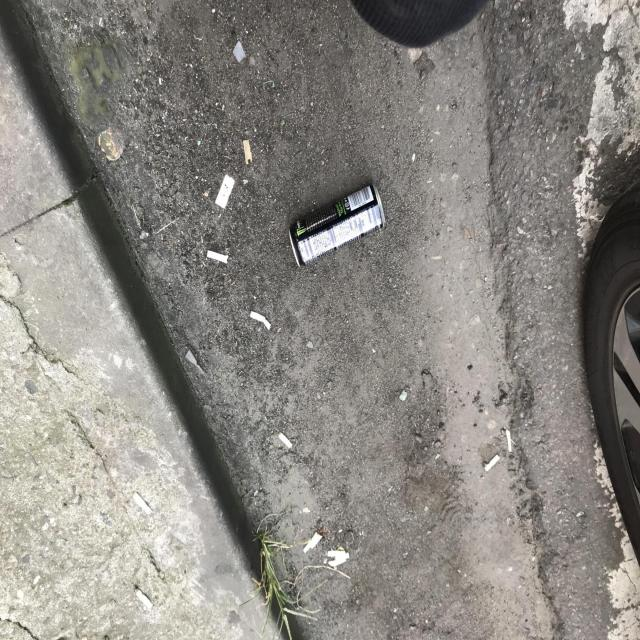can: (289, 184, 385, 266)
